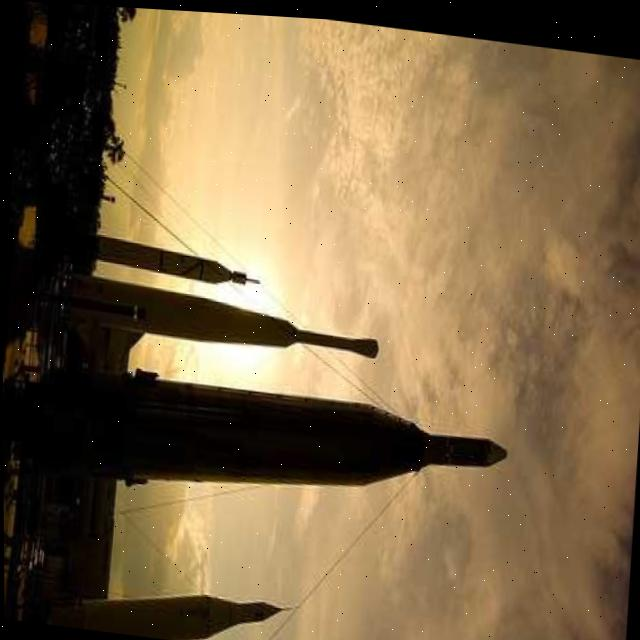missile: (123, 364, 514, 529)
